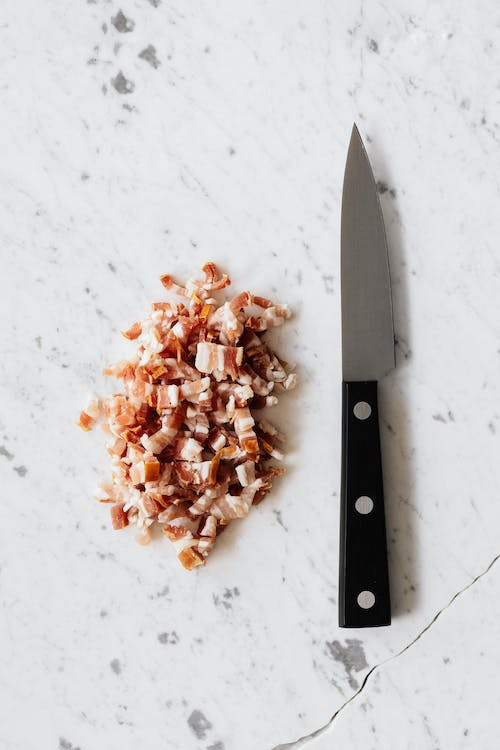knife: (336, 120, 399, 629)
